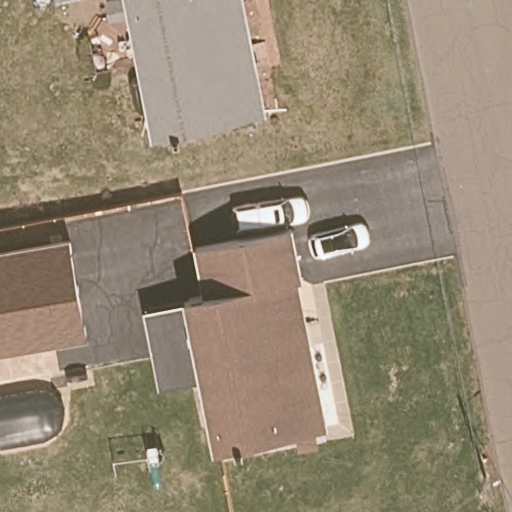DT: (476, 453, 501, 501)
